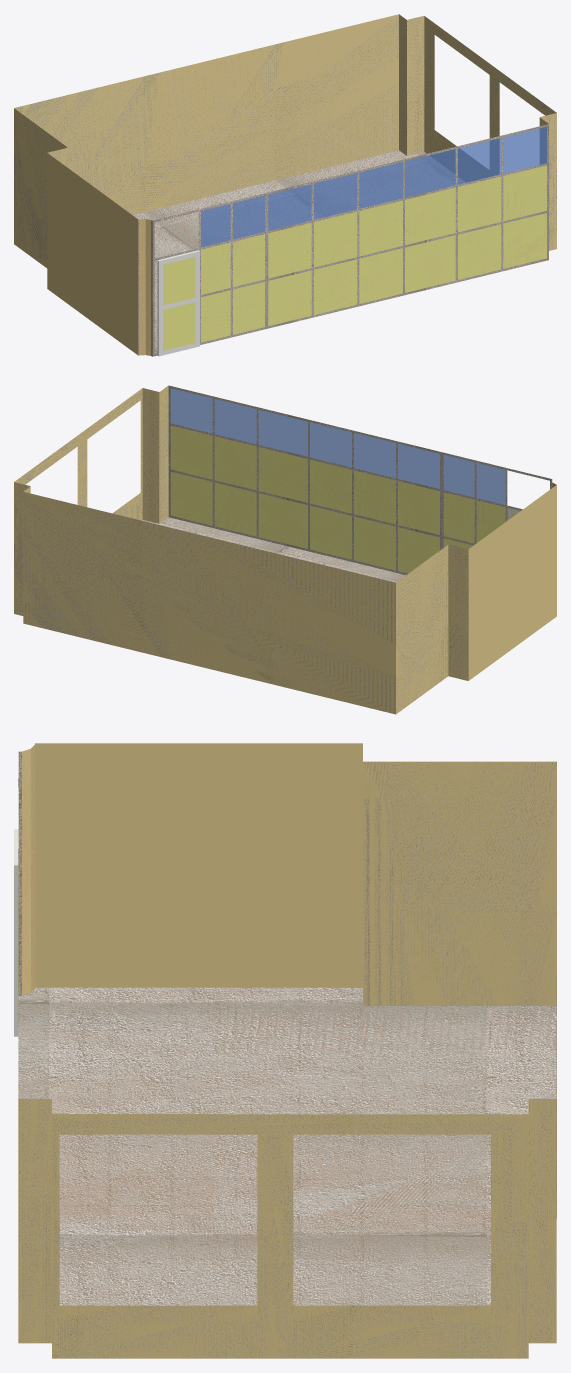
The model's file is LAB018.obj.
3 renders of one model, top to bottom at view 1: azimuth 30°, elevation 25°; view 2: azimuth 150°, elevation 25°; view 3: azimuth 270°, elevation 25°, orthographic. The views are drawn at different scales.
Parts seen in each view (by area): view 1: Mesh5 LAB018 Model, Mesh1 puerta4_1 LAB018 Model; view 2: Mesh5 LAB018 Model; view 3: Mesh5 LAB018 Model, Mesh1 puerta4_1 LAB018 Model.
Boxes of the visible parts, bbox=[...] form: Mesh5 LAB018 Model: bbox=[14, 14, 556, 356]; Mesh1 puerta4_1 LAB018 Model: bbox=[157, 250, 199, 356]; Mesh5 LAB018 Model: bbox=[14, 385, 556, 714]; Mesh5 LAB018 Model: bbox=[18, 743, 556, 1358]; Mesh1 puerta4_1 LAB018 Model: bbox=[14, 829, 18, 1036].
Size of the model in its own units: 9.76 by 3 by 6.04.
Materials: 7 (2 with a texture image).
